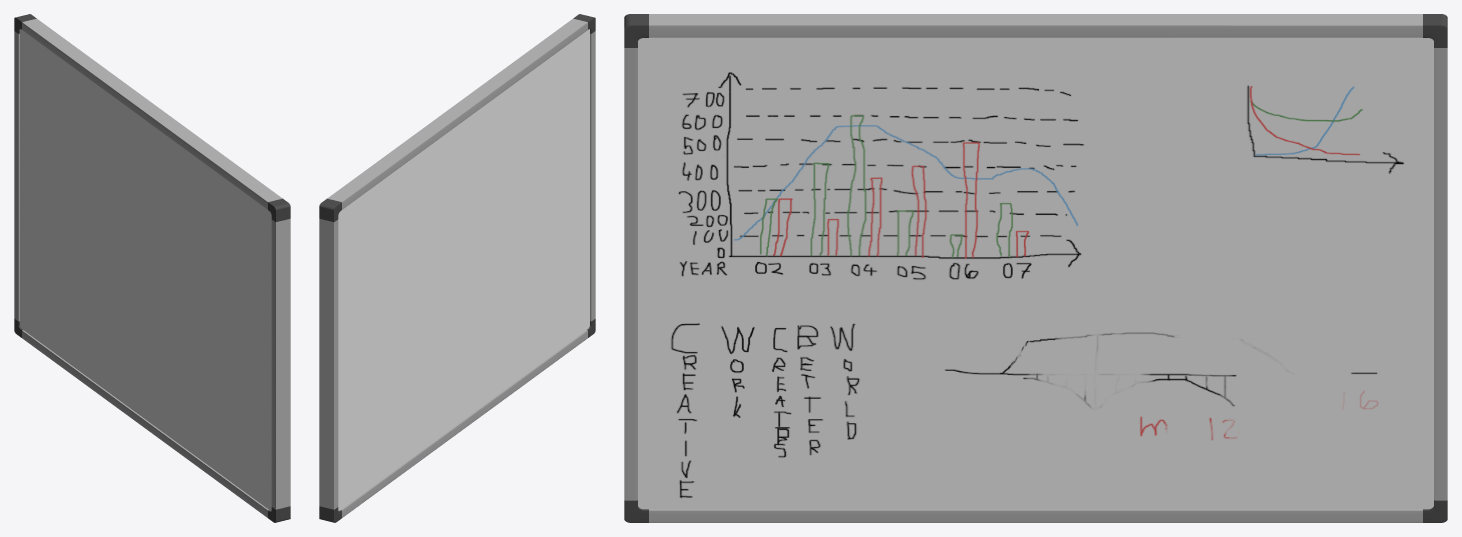
File: board.fbx
3 views of the same model, side by side, from view 1: azimuth 30°, elevation 25°; view 2: azimuth 150°, elevation 25°; view 3: azimuth 270°, elevation 25° (orthographic). The views are drawn at different scales.
Visible parts, largest first — view 1: Cube.001, Cube, Cube.007, Cube.011, Cube.010, Cube.002; view 2: Cube.001, Cube.010, Cube.007, Cube.011, Cube, Cube.003; view 3: Cube.001, Cube.007, Cube.011, Cube, Cube.010.
Part boxes in pixels (x1,y1,x2,y2): Cube.001: [20, 29, 271, 510]; Cube: [271, 218, 290, 509]; Cube.007: [22, 18, 282, 209]; Cube.011: [22, 330, 268, 517]; Cube.010: [14, 31, 19, 321]; Cube.002: [268, 198, 290, 221]; Cube.001: [338, 29, 589, 510]; Cube.010: [319, 218, 338, 509]; Cube.007: [327, 18, 587, 209]; Cube.011: [341, 330, 587, 517]; Cube: [590, 31, 595, 321]; Cube.003: [319, 198, 341, 221]; Cube.001: [638, 37, 1433, 509]; Cube.007: [649, 14, 1422, 37]; Cube.011: [649, 509, 1422, 522]; Cube: [624, 48, 637, 500]; Cube.010: [1434, 48, 1447, 500].
Size of the model in its own units: 5 by 100 by 150.
3 materials, 1 textured.
